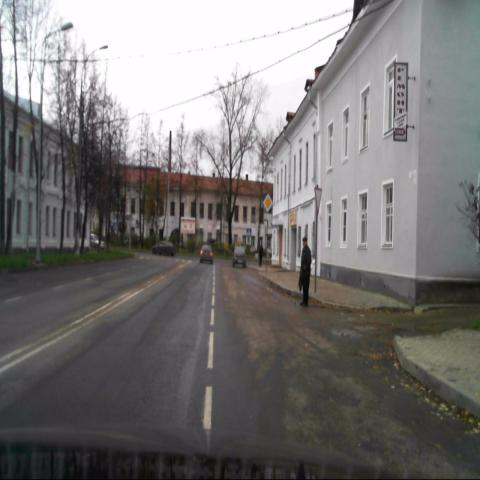2_1: (263, 194, 273, 214)
2_4: (314, 187, 322, 214)
